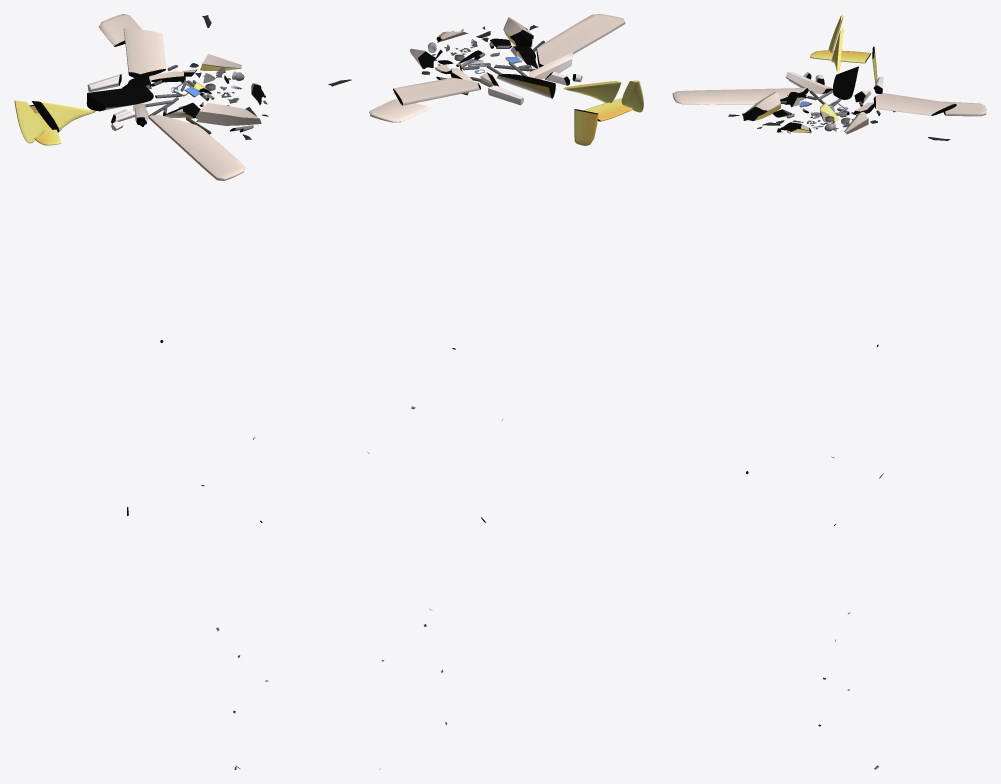
The model's file is PlaneBroken.glb.
3 views of the same model, side by side, from view 1: azimuth 30°, elevation 25°; view 2: azimuth 150°, elevation 25°; view 3: azimuth 270°, elevation 25° (orthographic). The views are drawn at different scales.
Visible parts, largest first — view 1: Plane.001_cell; view 2: Plane.001_cell; view 3: Plane.001_cell.
Boxes of the visible parts, x1=… form: Plane.001_cell: x1=14, y1=14, x2=268, y2=769; Plane.001_cell: x1=328, y1=14, x2=643, y2=769; Plane.001_cell: x1=672, y1=14, x2=986, y2=769.
Bounding box in the file's own units: 10.95 × 27.7 × 12.1.
1 material, 1 textured.
